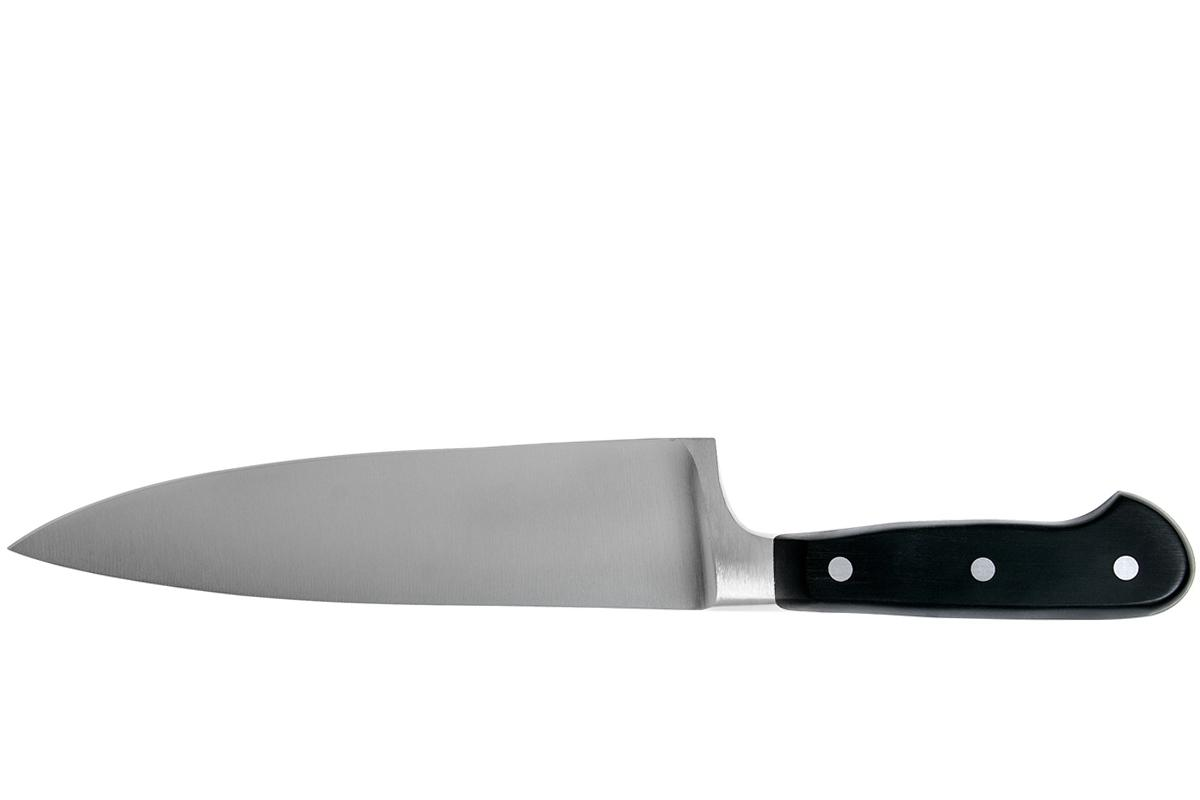knife: (11, 436, 1200, 631)
